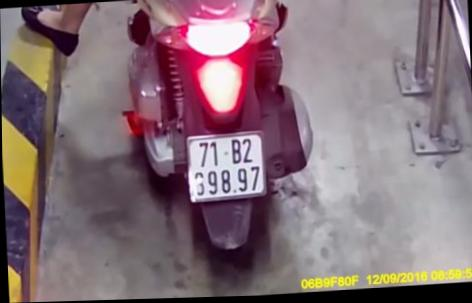LP: (184, 131, 267, 204)
